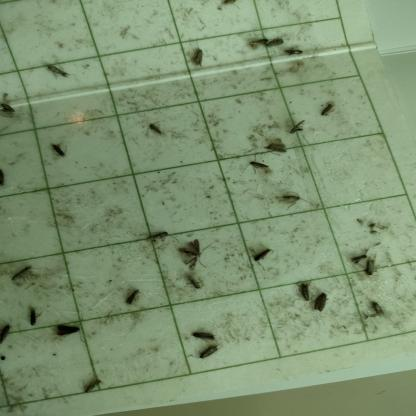prays_oleae: (244, 231, 275, 284), (43, 130, 74, 175), (178, 227, 210, 270), (269, 186, 311, 216), (42, 58, 74, 92), (359, 288, 386, 328), (48, 320, 85, 346), (145, 220, 177, 250), (315, 93, 338, 132), (190, 35, 210, 79), (8, 259, 40, 286), (183, 267, 210, 299), (294, 269, 312, 316), (80, 368, 104, 400), (201, 339, 223, 373), (266, 26, 286, 63), (249, 154, 273, 184), (0, 96, 18, 134), (245, 28, 270, 55), (187, 321, 216, 344), (314, 282, 330, 323), (286, 110, 307, 141), (149, 112, 166, 148), (264, 136, 288, 161), (360, 249, 380, 279), (347, 243, 368, 270), (0, 314, 13, 357), (126, 280, 142, 312), (25, 297, 38, 335), (282, 44, 308, 63)
